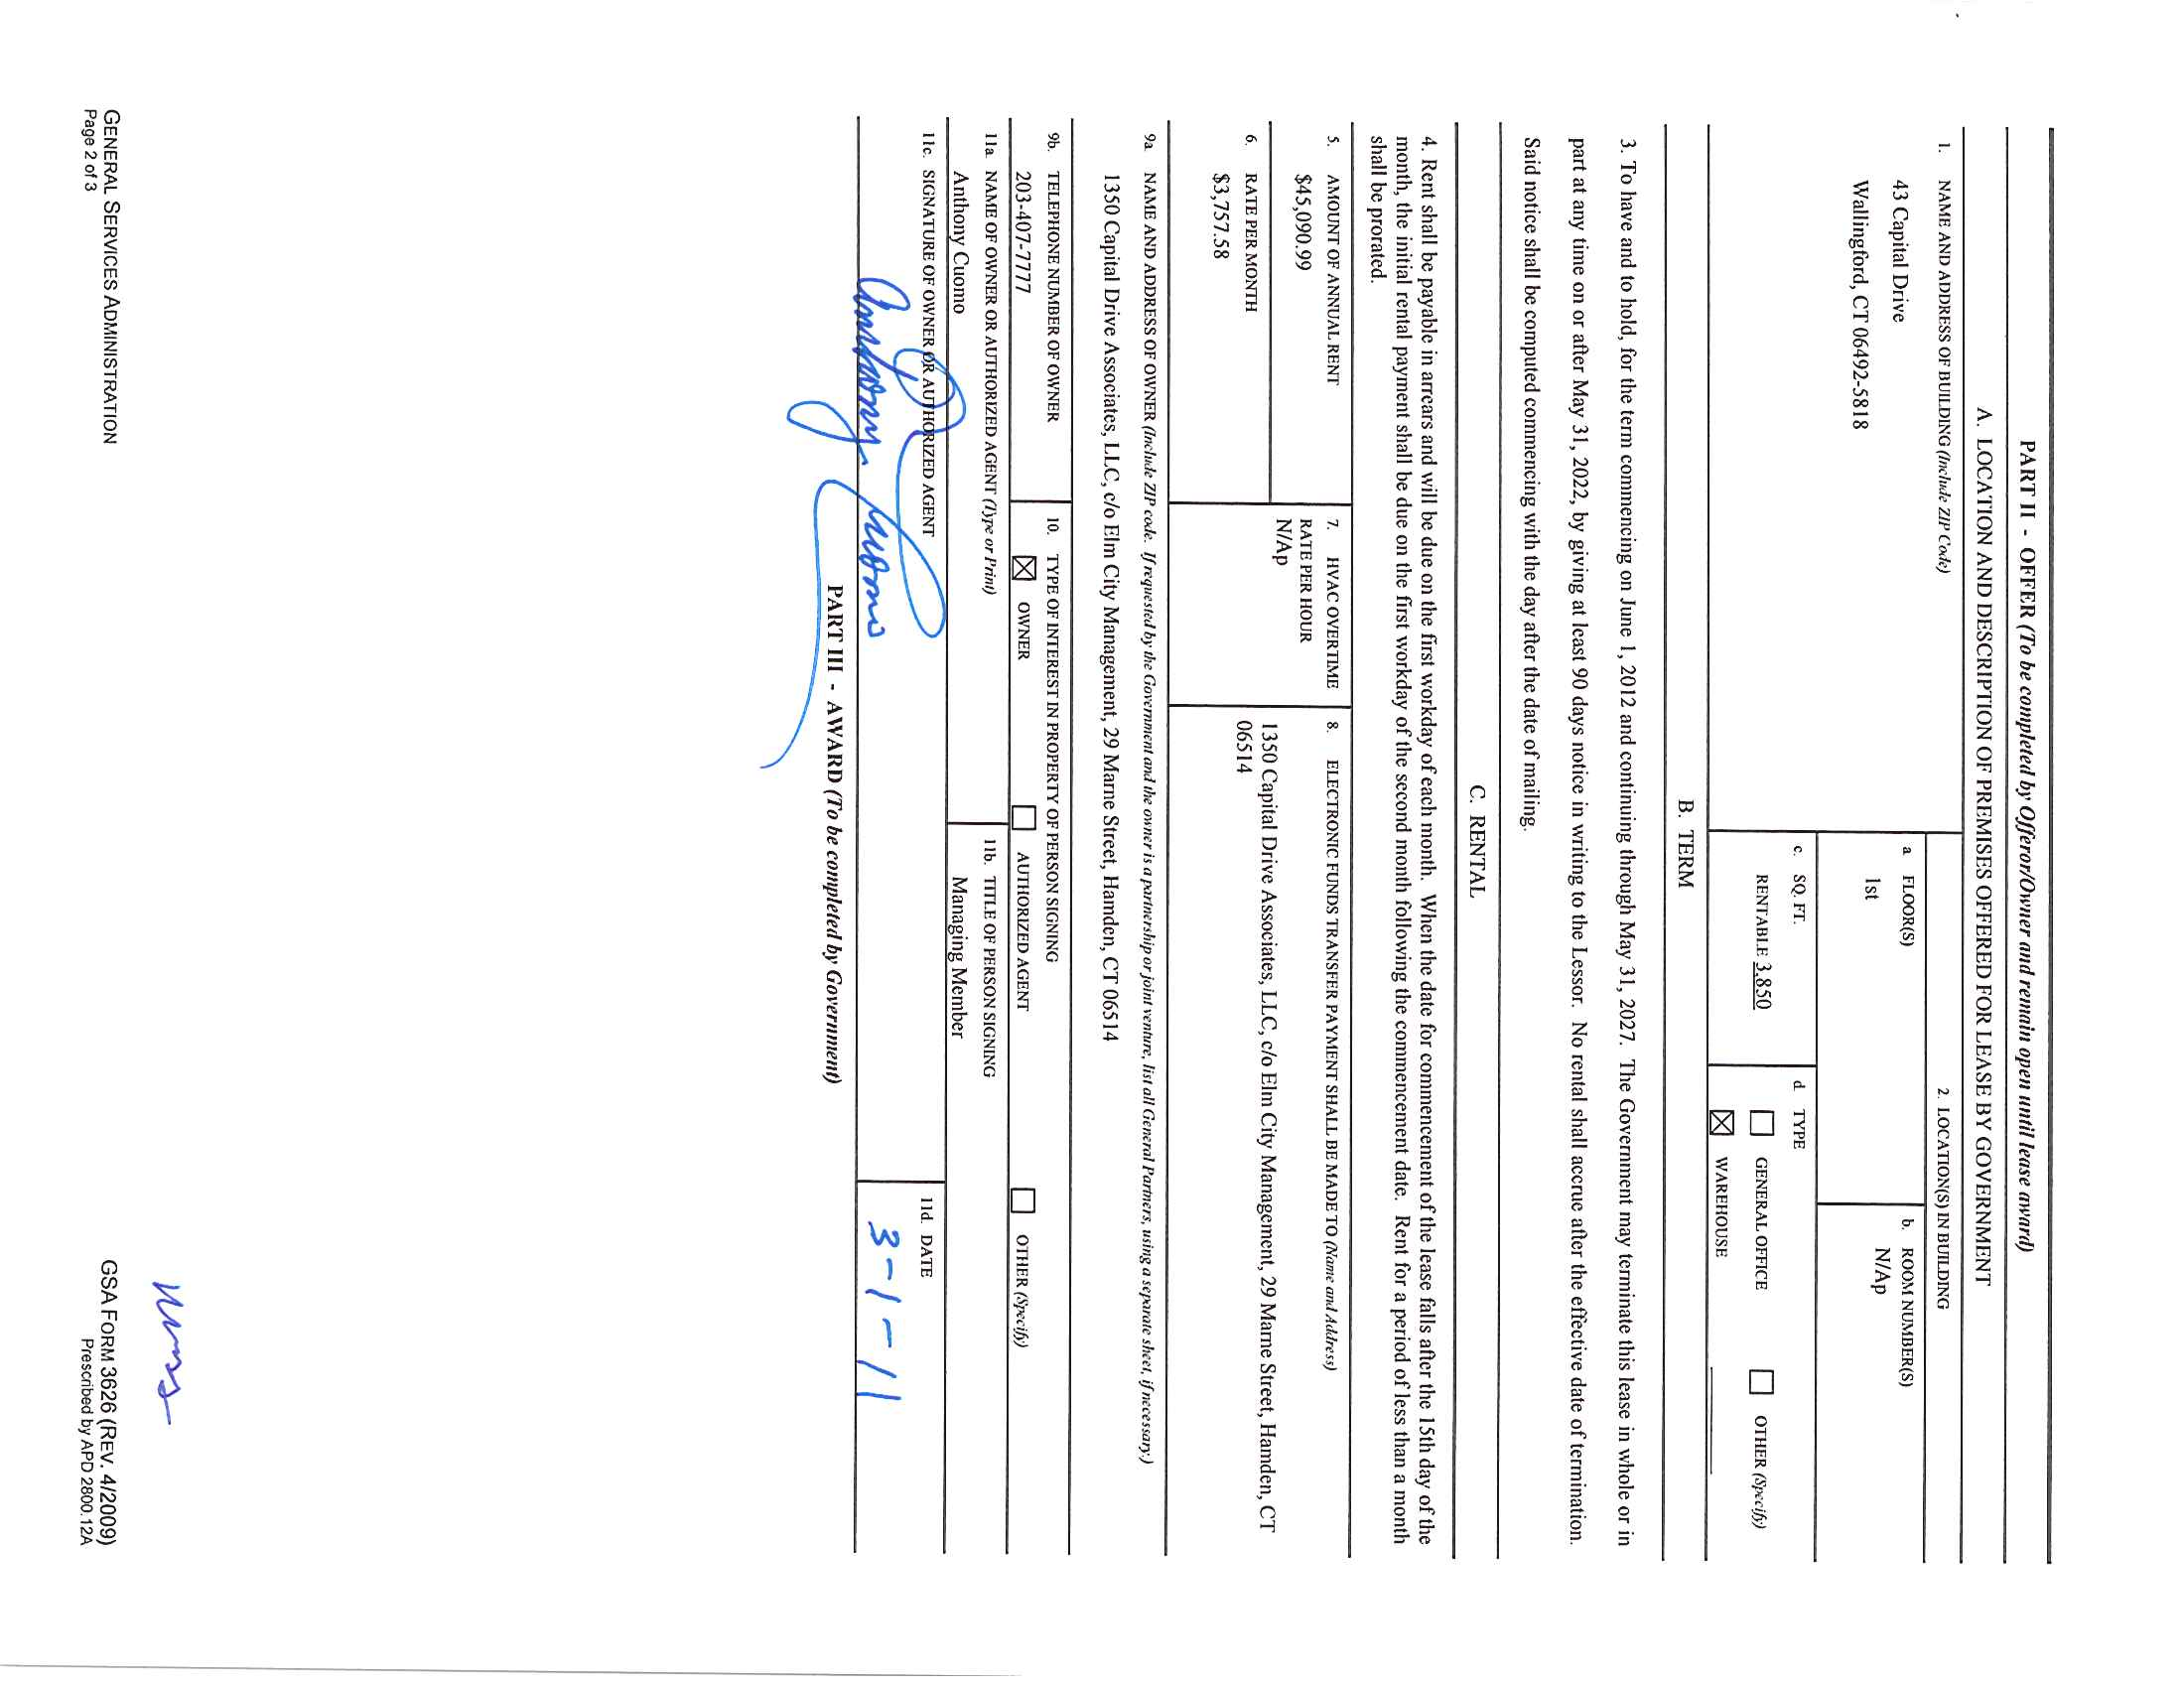handwritten: (787, 225, 964, 677), (126, 1259, 211, 1434), (854, 1195, 916, 1422)
